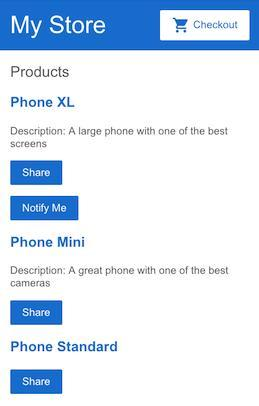button: (162, 12, 251, 41), (11, 197, 81, 222), (10, 300, 64, 327), (11, 369, 64, 395), (11, 161, 64, 186)
label: (9, 13, 108, 41), (9, 338, 123, 358), (10, 235, 87, 251), (8, 94, 77, 111)
